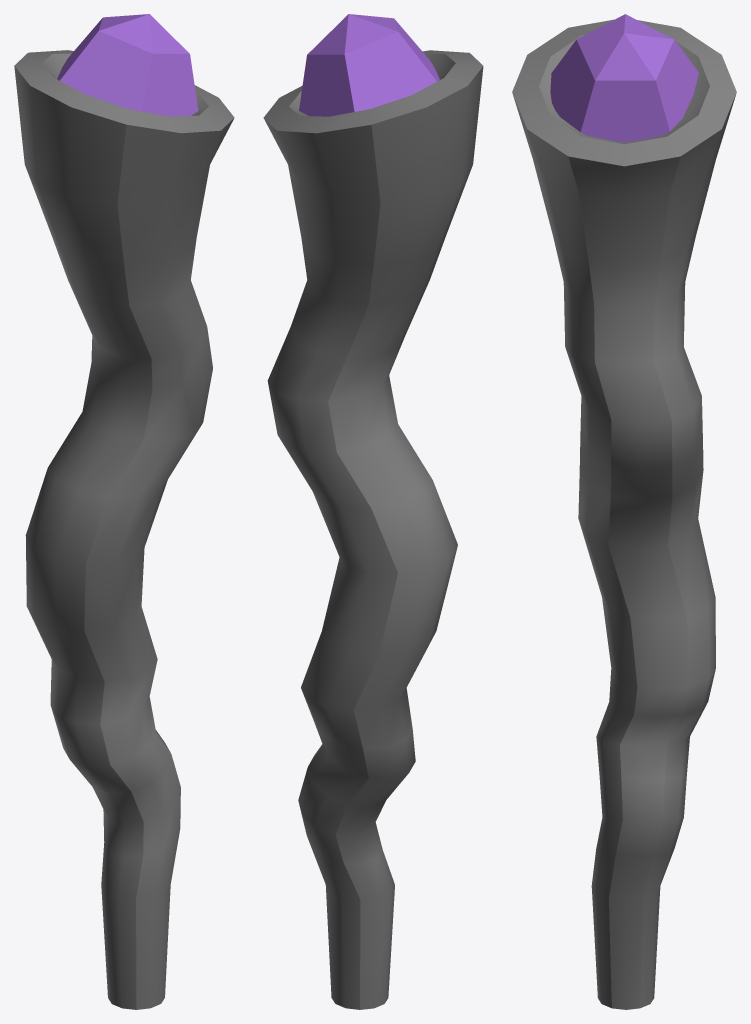
File: Wizz_weapon_1.fbx
The picture shows the model from 3 angles, left to right: view 1: azimuth 30°, elevation 25°; view 2: azimuth 150°, elevation 25°; view 3: azimuth 270°, elevation 25°; orthographic projection.
Parts seen in each view (by area): view 1: Wizz_weapon_1; view 2: Wizz_weapon_1; view 3: Wizz_weapon_1.
Part boxes in pixels (left/top/right/bottom): Wizz_weapon_1: left=14, top=14, right=234, bottom=1009; Wizz_weapon_1: left=263, top=14, right=483, bottom=1009; Wizz_weapon_1: left=512, top=14, right=736, bottom=1009.
Size of the model in its own units: 5.06 by 25.32 by 5.28.
